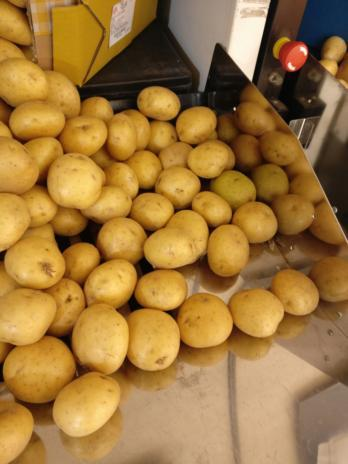Solid potato: (35, 76, 176, 435), (175, 100, 332, 350), (0, 0, 31, 464)
